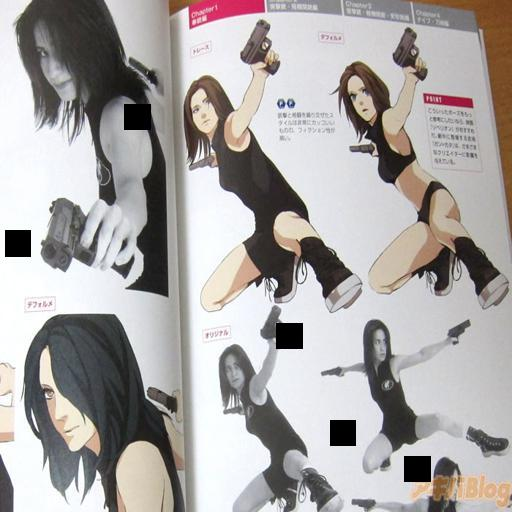Handgun: (37, 194, 94, 269), (232, 20, 282, 71), (388, 27, 427, 80), (255, 302, 289, 346), (126, 52, 157, 84), (145, 383, 175, 411), (442, 314, 470, 343), (349, 491, 374, 510), (349, 140, 374, 156), (319, 362, 342, 376), (185, 155, 211, 167)
